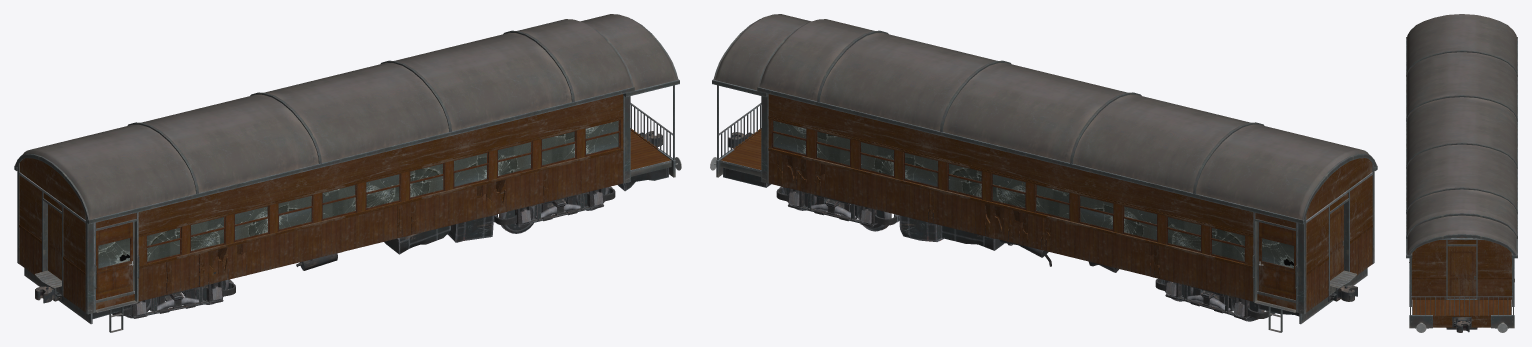
The model's file is TrainBody3.fbx.
The picture shows the model from 3 angles, left to right: view 1: azimuth 30°, elevation 25°; view 2: azimuth 150°, elevation 25°; view 3: azimuth 270°, elevation 25°; orthographic projection. The views are drawn at different scales.
Parts seen in each view (by area): view 1: 0000_SM_d_114_BrokenLocomotive_04a, 0002_SM_d_114_BrokenLocomotive_04a, 0001_SM_d_114_BrokenLocomotive_04a, 0003_SM_d_114_BrokenLocomotive_04a, 0005_SM_d_114_BrokenLocomotive_04a, 0006_SM_d_114_BrokenLocomotive_04a, 0004_SM_d_114_BrokenLocomotive_04a; view 2: 0000_SM_d_114_BrokenLocomotive_04a, 0002_SM_d_114_BrokenLocomotive_04a, 0001_SM_d_114_BrokenLocomotive_04a, 0003_SM_d_114_BrokenLocomotive_04a, 0005_SM_d_114_BrokenLocomotive_04a, 0006_SM_d_114_BrokenLocomotive_04a, 0004_SM_d_114_BrokenLocomotive_04a; view 3: 0000_SM_d_114_BrokenLocomotive_04a, 0002_SM_d_114_BrokenLocomotive_04a, 0001_SM_d_114_BrokenLocomotive_04a, 0004_SM_d_114_BrokenLocomotive_04a.
Part boxes in pixels (box(x1,y1,x2,y2)): 0000_SM_d_114_BrokenLocomotive_04a: box(22, 14, 676, 219); 0002_SM_d_114_BrokenLocomotive_04a: box(14, 79, 681, 312); 0001_SM_d_114_BrokenLocomotive_04a: box(15, 19, 678, 332); 0003_SM_d_114_BrokenLocomotive_04a: box(98, 120, 618, 268); 0005_SM_d_114_BrokenLocomotive_04a: box(112, 188, 615, 318); 0006_SM_d_114_BrokenLocomotive_04a: box(92, 167, 668, 318); 0004_SM_d_114_BrokenLocomotive_04a: box(35, 131, 662, 303); 0000_SM_d_114_BrokenLocomotive_04a: box(715, 14, 1369, 219); 0002_SM_d_114_BrokenLocomotive_04a: box(710, 79, 1377, 312); 0001_SM_d_114_BrokenLocomotive_04a: box(713, 19, 1376, 332); 0003_SM_d_114_BrokenLocomotive_04a: box(773, 120, 1293, 268); 0005_SM_d_114_BrokenLocomotive_04a: box(776, 188, 1268, 320); 0006_SM_d_114_BrokenLocomotive_04a: box(723, 167, 1299, 321); 0004_SM_d_114_BrokenLocomotive_04a: box(728, 132, 1357, 301); 0000_SM_d_114_BrokenLocomotive_04a: box(1407, 14, 1516, 254); 0002_SM_d_114_BrokenLocomotive_04a: box(1406, 37, 1517, 332); 0001_SM_d_114_BrokenLocomotive_04a: box(1406, 50, 1517, 306); 0004_SM_d_114_BrokenLocomotive_04a: box(1452, 317, 1471, 332).
Size of the model in its own units: 18.43 by 4.84 by 3.83.
